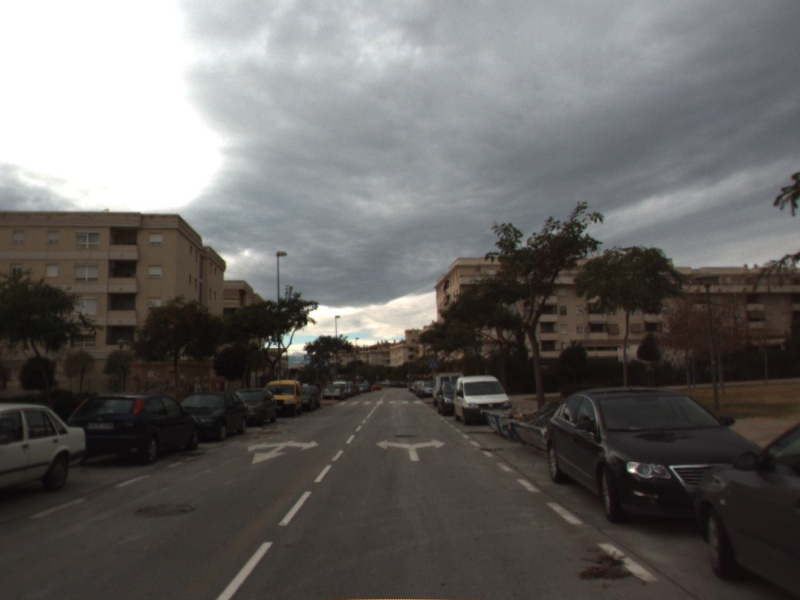LEFT_RIGHT: (374, 436, 448, 463)
